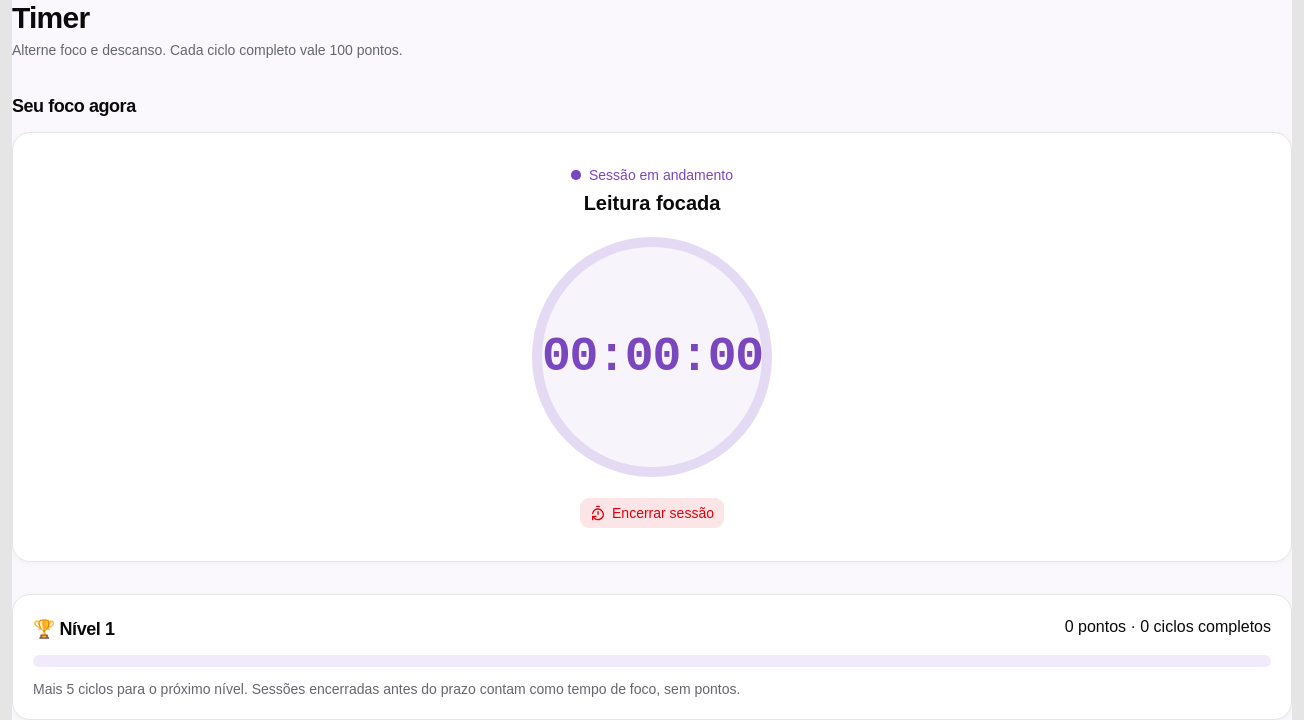
Scenario: TimerPage › restores and finishes an active session into the history
expect the text "Sessão em andamento" is shown: met, box top-left (571, 165), bottom-right (733, 185)
Click the button "Encerrar sessão" at [652, 513], box top-left (579, 497), bottom-right (725, 529)
(page scrolled)
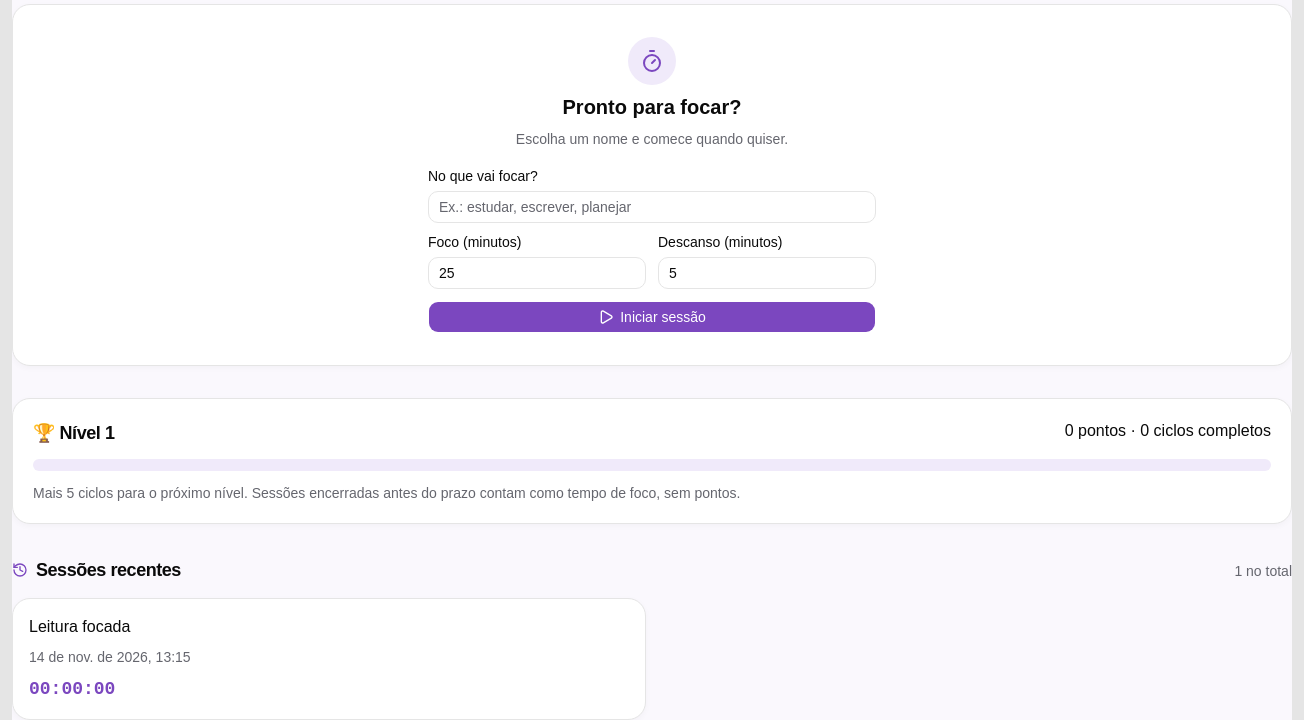
expect the heading "Leitura focada" is shown: met, box top-left (29, 618), bottom-right (130, 635)
expect the text "Sessão em andamento" is gone: met
